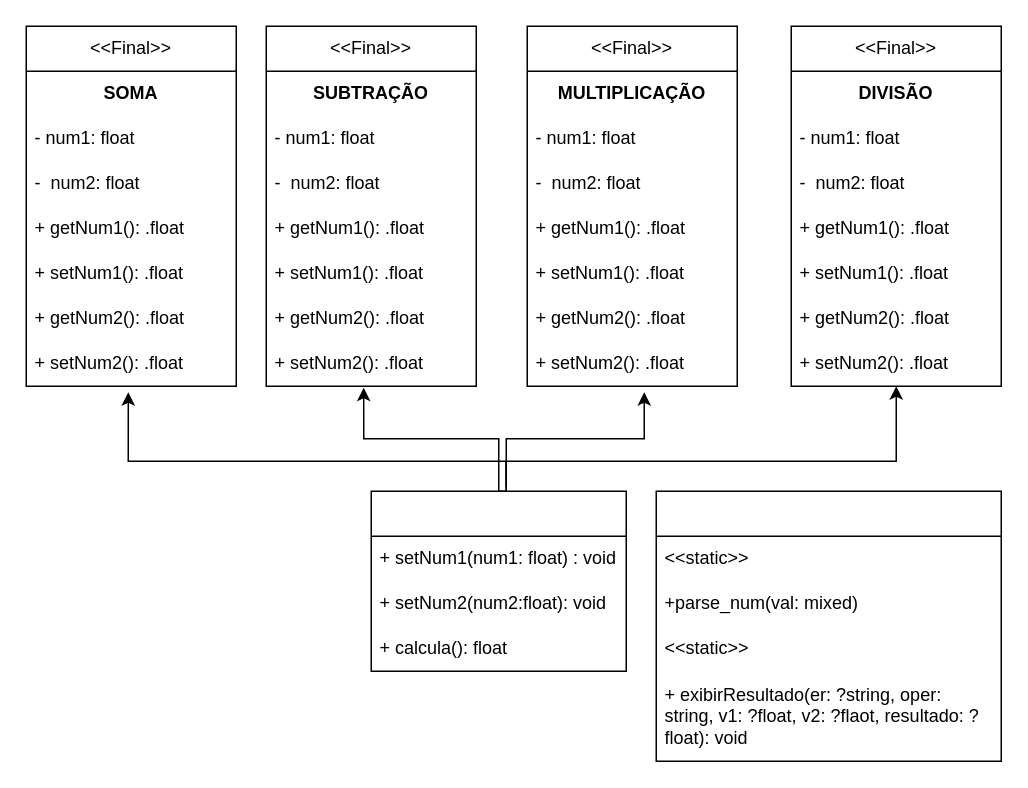
Some shapes in this 1028 by 788 pixel diagram are drawn without their labels. Each missing label, with the box of its shape:
IOperacao: (370, 490, 626, 671)
TrataeMostra: (655, 490, 1001, 761)
